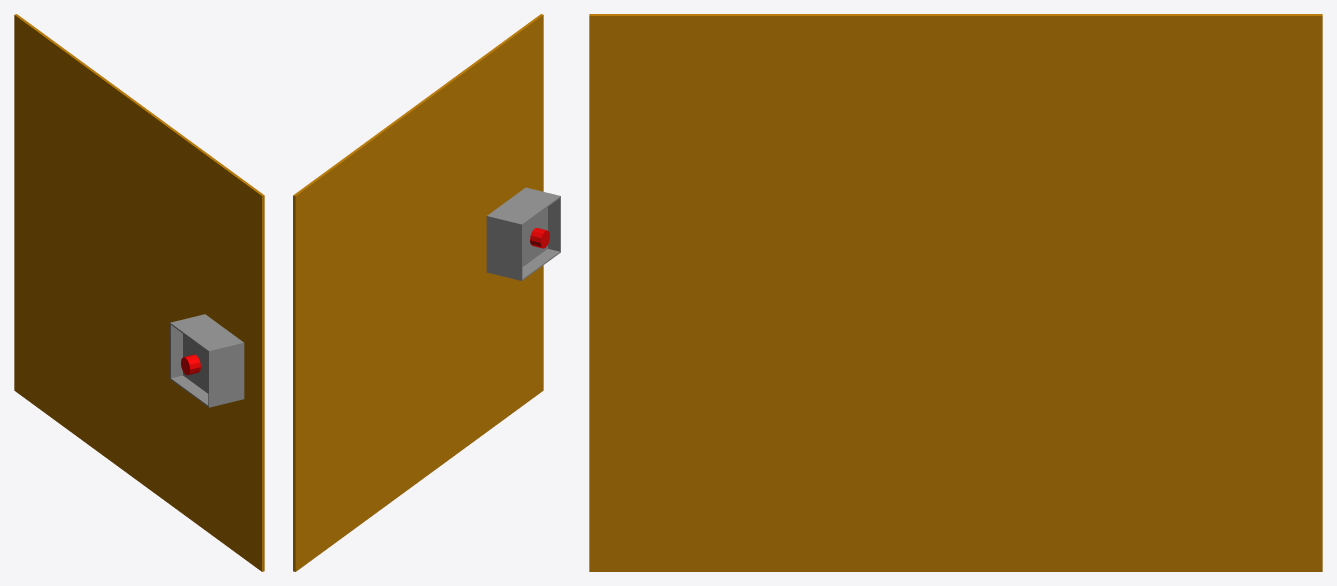
The model's file is DRC-TESTBED-BUTTON-BODYSET9_link_mesh.dae.
The picture shows the model from 3 angles, left to right: view 1: azimuth 30°, elevation 25°; view 2: azimuth 150°, elevation 25°; view 3: azimuth 270°, elevation 25°; orthographic projection. The views are drawn at different scales.
Parts seen in each view (by area): view 1: DRC-TESTBED-BUTTON-BODYSET9_link (×3); view 2: DRC-TESTBED-BUTTON-BODYSET9_link (×2); view 3: DRC-TESTBED-BUTTON-BODYSET9_link.
Part boxes in pixels (<box>): DRC-TESTBED-BUTTON-BODYSET9_link (×3): <box>14,14,264,571</box>; DRC-TESTBED-BUTTON-BODYSET9_link (×2): <box>293,14,560,571</box>; DRC-TESTBED-BUTTON-BODYSET9_link: <box>589,14,1322,571</box>.
Bounding box in the file's own units: 0.155 × 1.33 × 1.59.
